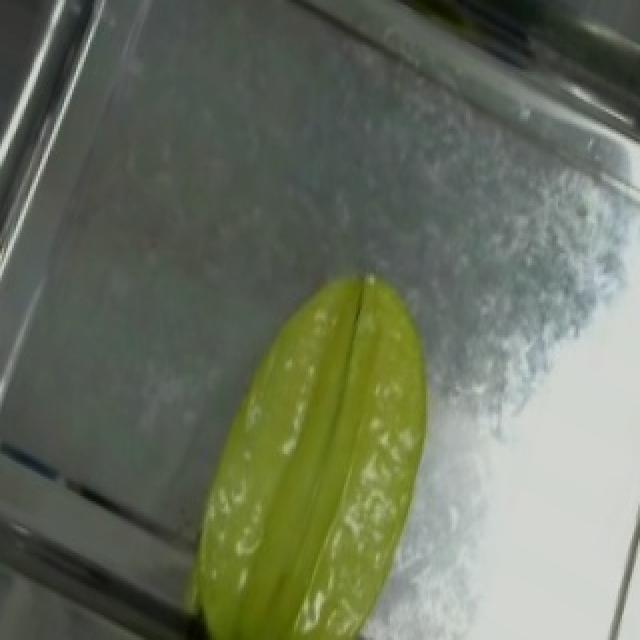fruit: (168, 236, 490, 610)
